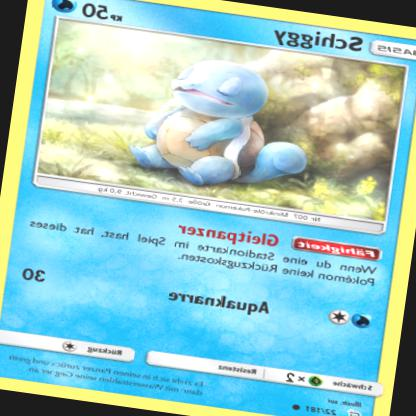Squirtle: (122, 46, 313, 200)
